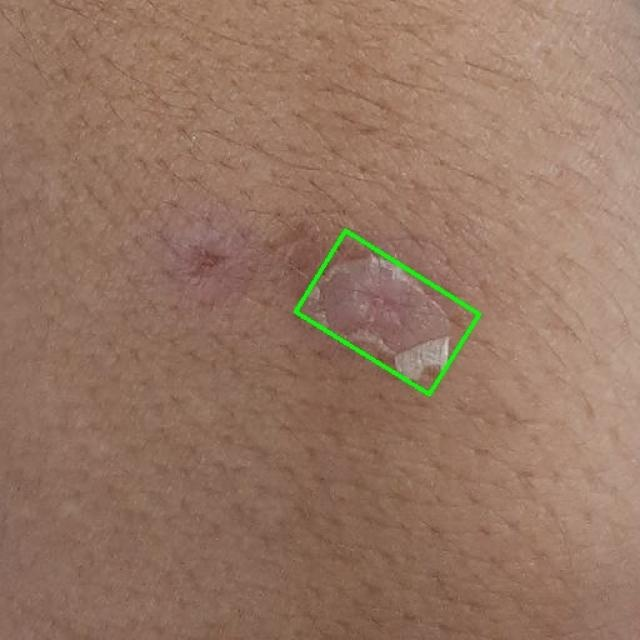Scabies: (295, 231, 480, 395)
